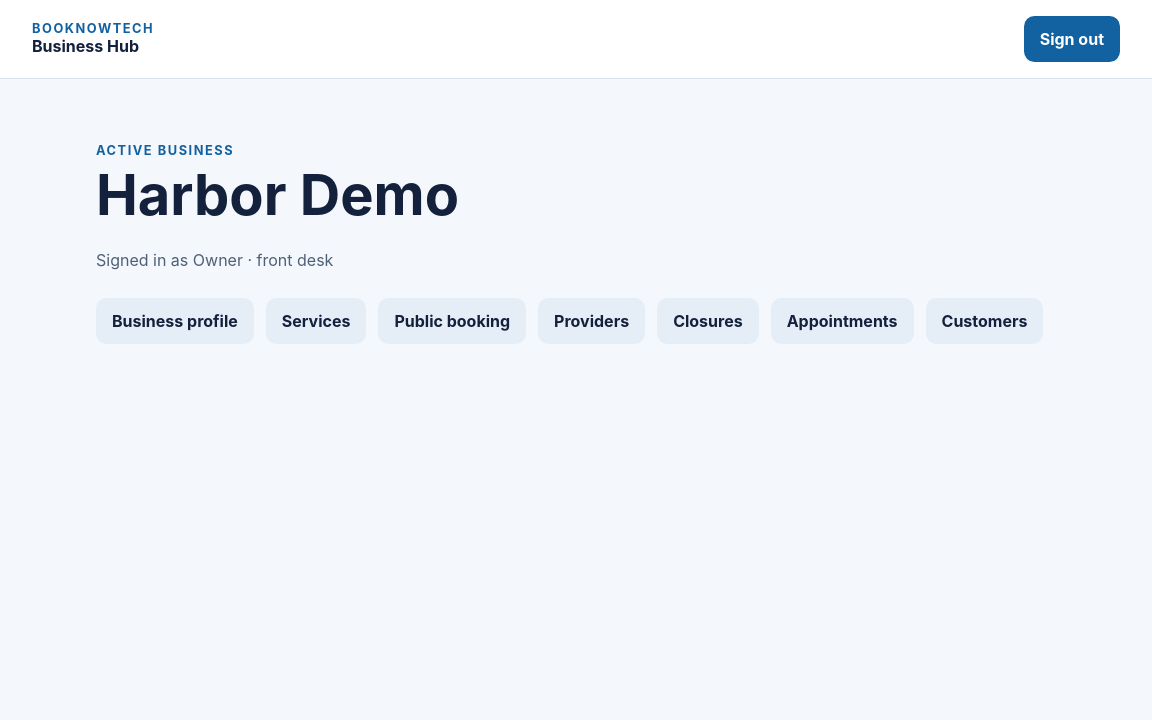
Test case: Business Hub › shows providers to staff while reserving provider management for owners and admins
Click the button "Providers" at (592, 321), box [538,298,645,344]
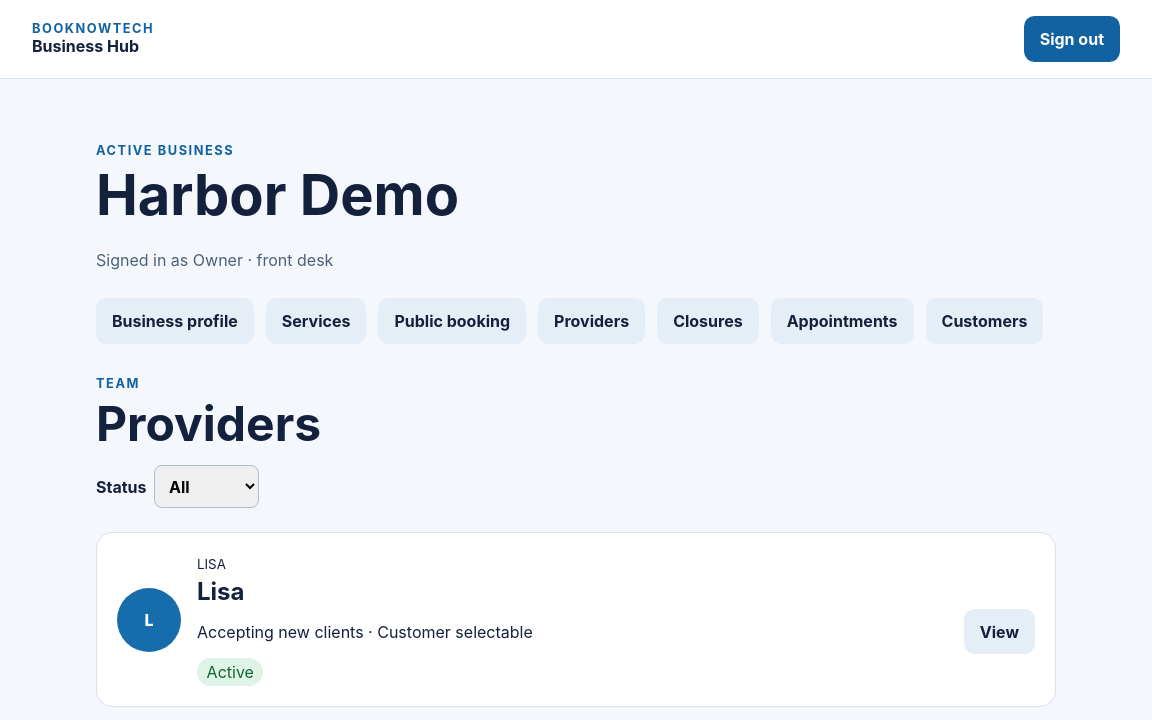
Now the heading "Lisa" is shown, box [197,577,244,606]
